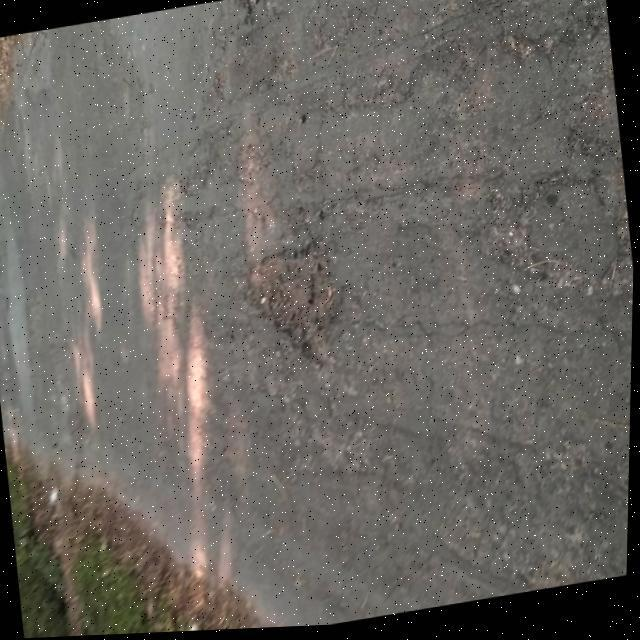pothole: (222, 210, 362, 380)
